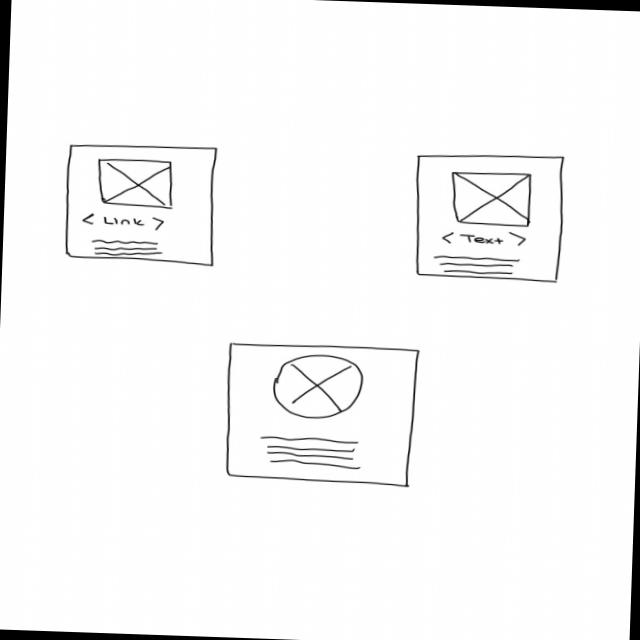container: (220, 338, 423, 489), (408, 148, 568, 284), (61, 140, 221, 268)
image: (271, 351, 365, 421), (448, 170, 536, 228), (94, 156, 176, 210)
link: (80, 210, 166, 232), (440, 228, 528, 248)
textbox: (256, 432, 364, 471), (432, 252, 521, 278), (88, 236, 164, 258)
